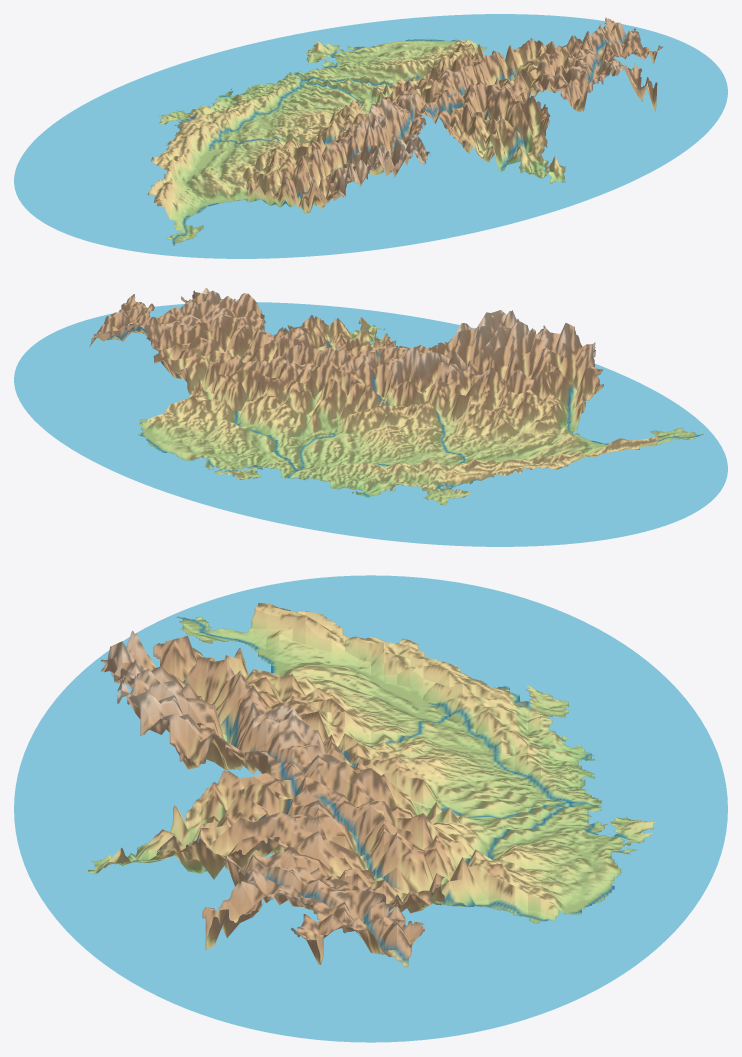
Rendered from CHE-terrain.glb.
The picture shows the model from 3 angles, top to bottom: view 1: azimuth 30°, elevation 25°; view 2: azimuth 150°, elevation 25°; view 3: azimuth 270°, elevation 25°; orthographic projection. The views are drawn at different scales.
Visible parts, largest first — view 1: Relevo com hidrografia; view 2: Relevo com hidrografia; view 3: Relevo com hidrografia.
Boxes of the visible parts, x1=… form: Relevo com hidrografia: x1=14, y1=14, x2=727, y2=258; Relevo com hidrografia: x1=14, y1=288, x2=727, y2=546; Relevo com hidrografia: x1=14, y1=575, x2=727, y2=1042.
Bounding box in the file's own units: 2.01 × 0.1889 × 1.3.
Materials: 2 (1 with a texture image).
